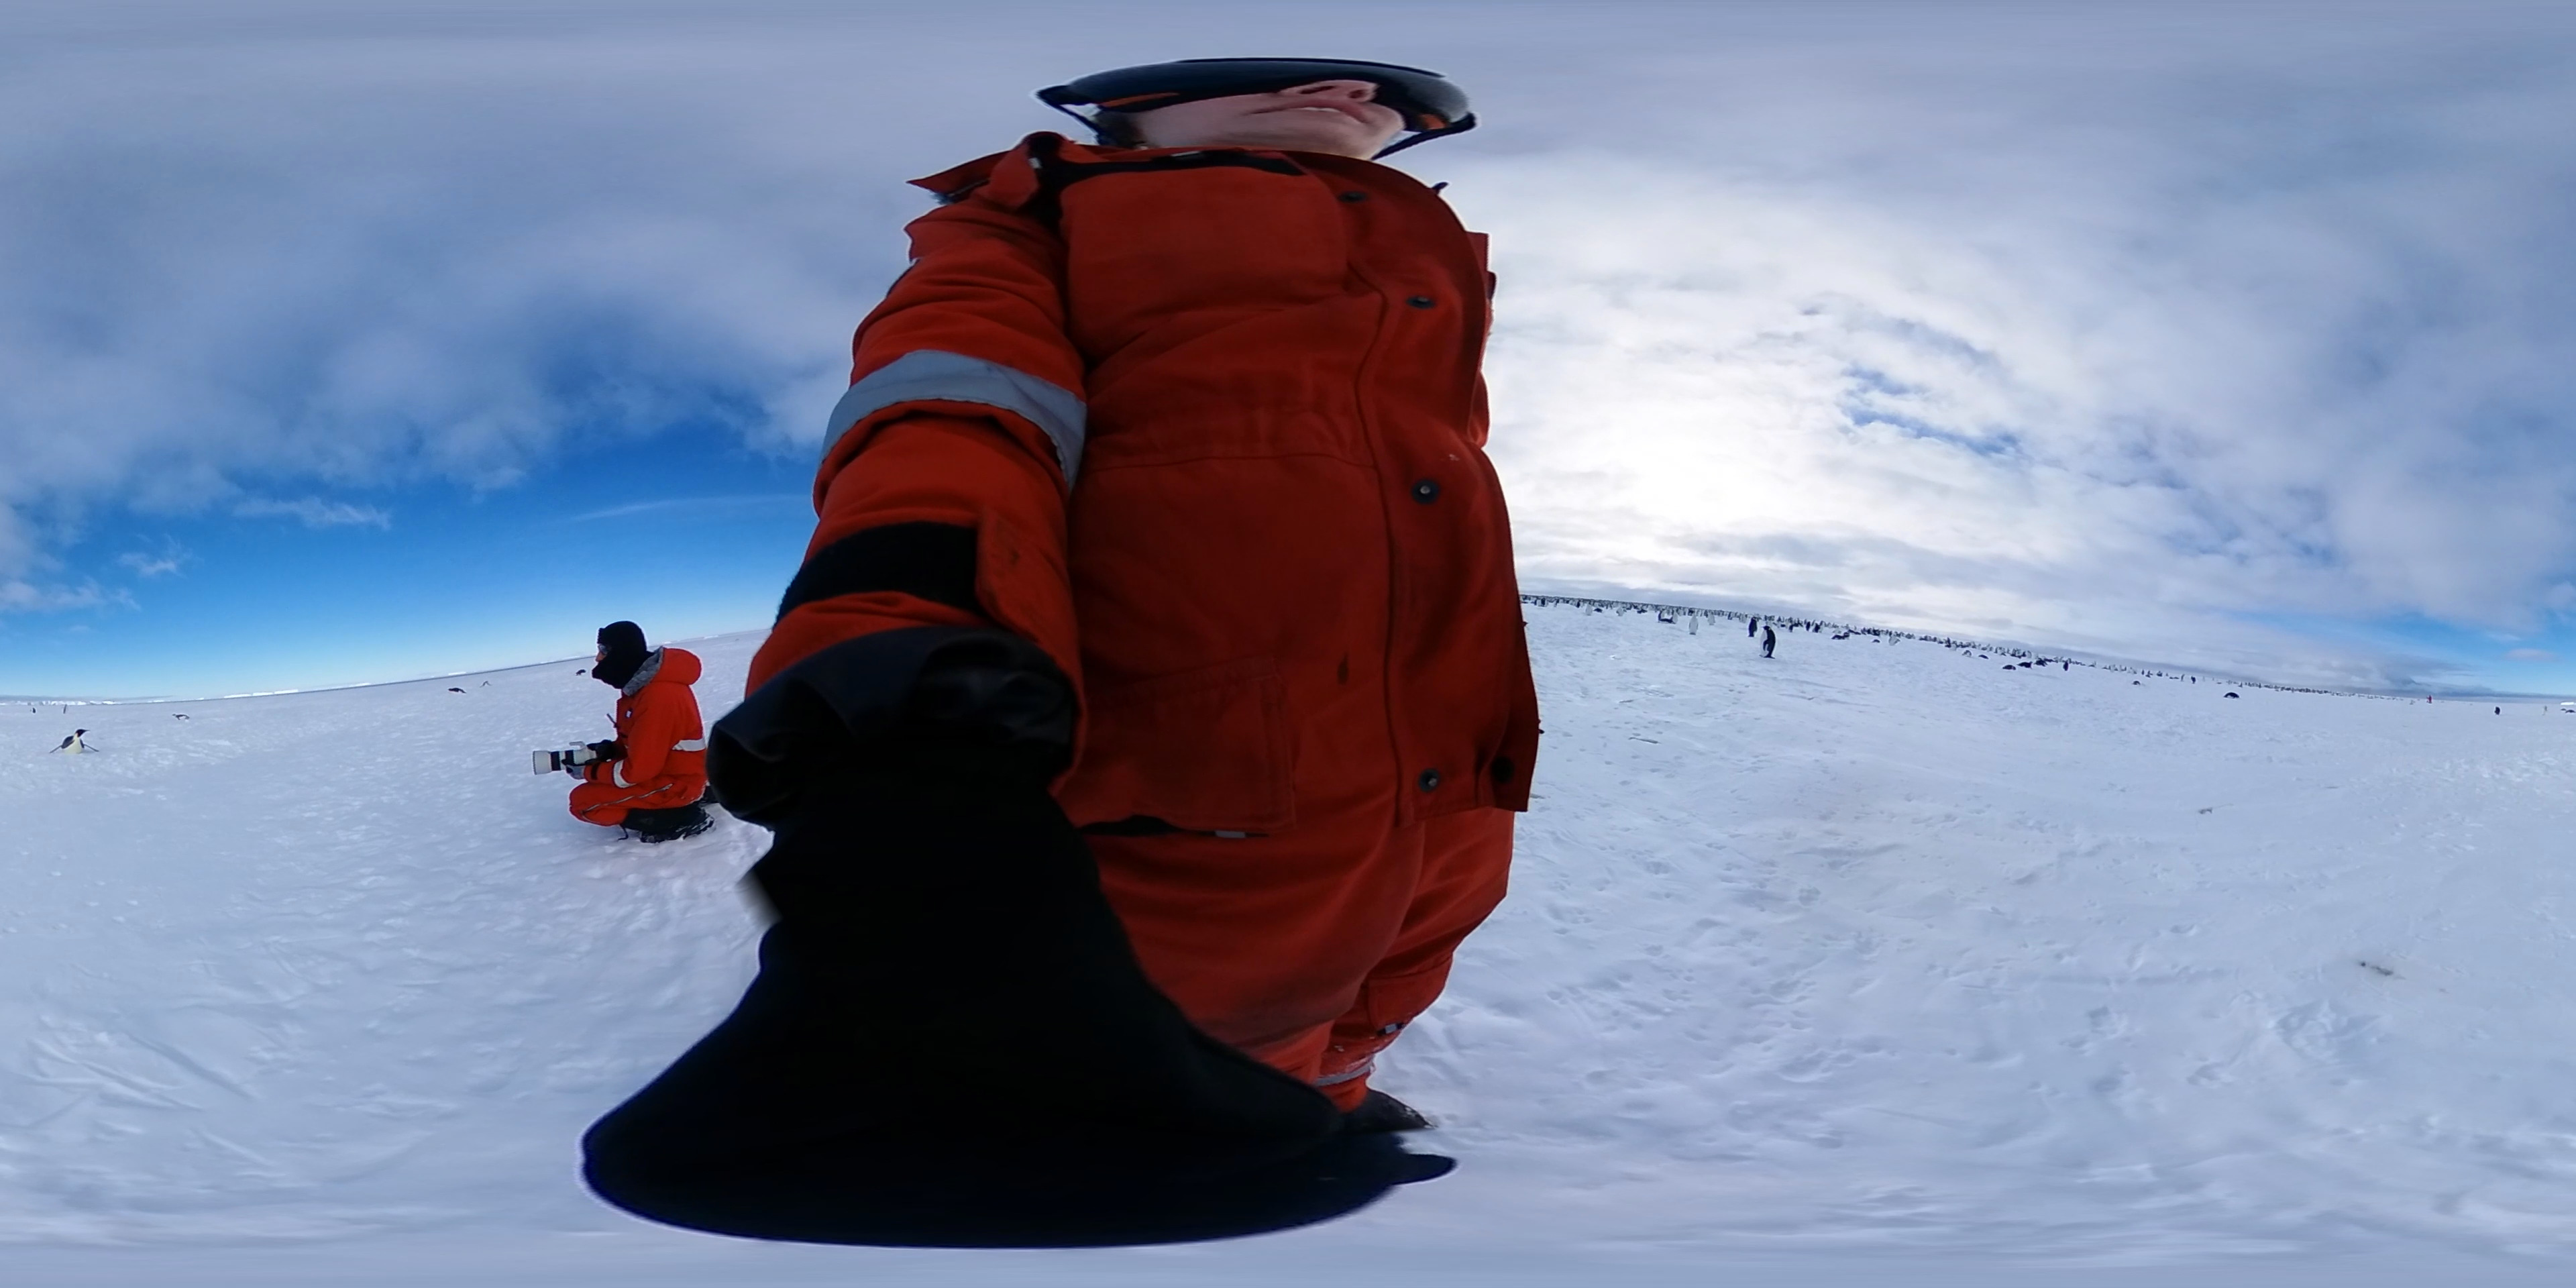adult_standing_penguin: (1756, 623, 1776, 662), (1687, 609, 1702, 637), (1745, 613, 1759, 641), (2223, 690, 2246, 701), (1998, 664, 2017, 670)
adult_toboggan_penguin: (48, 728, 102, 757), (444, 682, 471, 698), (171, 710, 194, 724)
researcher: (693, 38, 1561, 1224), (519, 619, 736, 843)
